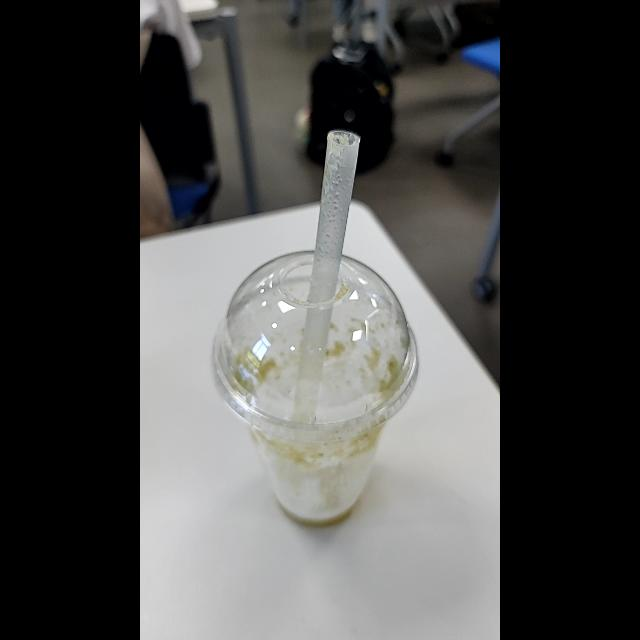plastic_cup: (204, 248, 422, 532)
plastic_cup_lid: (208, 248, 430, 436)
straw: (288, 132, 362, 422)
